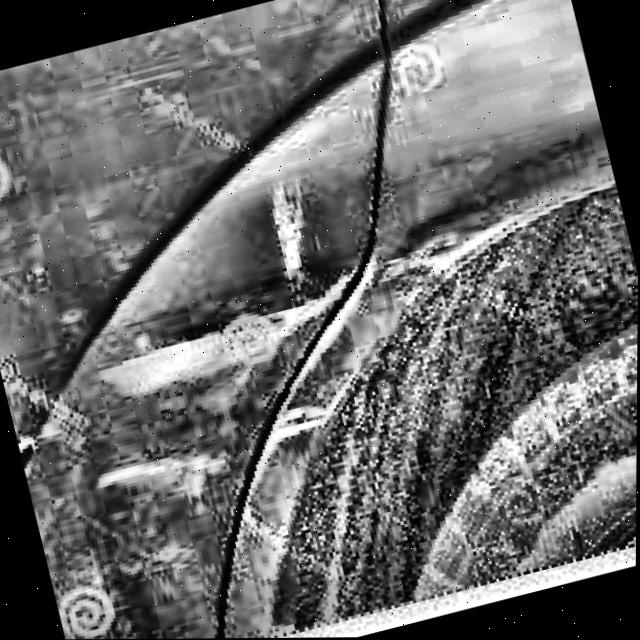door_scratch: (90, 275, 344, 430), (70, 391, 336, 525), (220, 160, 355, 282)
